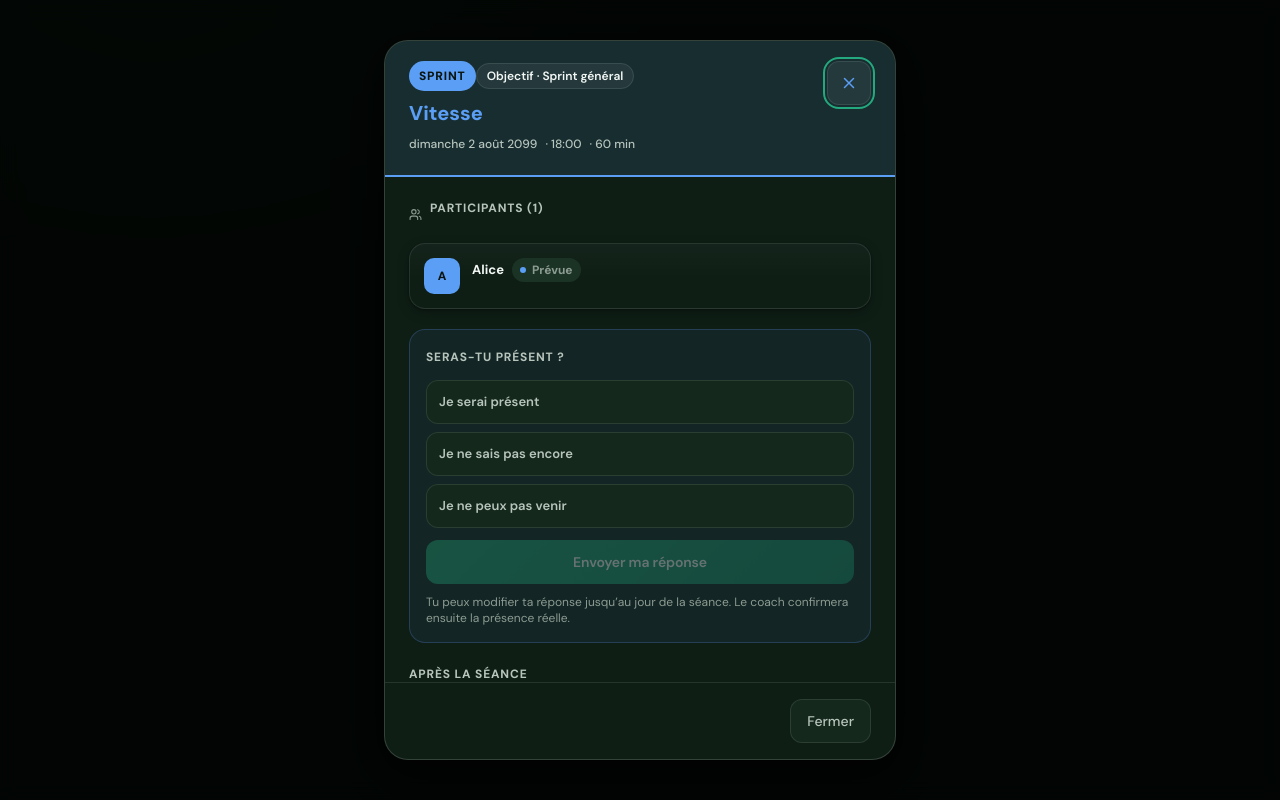
Test: SessionDetailModal › sépare la réponse avant séance du retour après séance et transmet le message
expect the text "Seras-tu présent ?" is shown: met, box [426,349,565,365]
Step 1. Click the button "Je ne peux pas venir" → (503, 506), box [426,484,854,528]
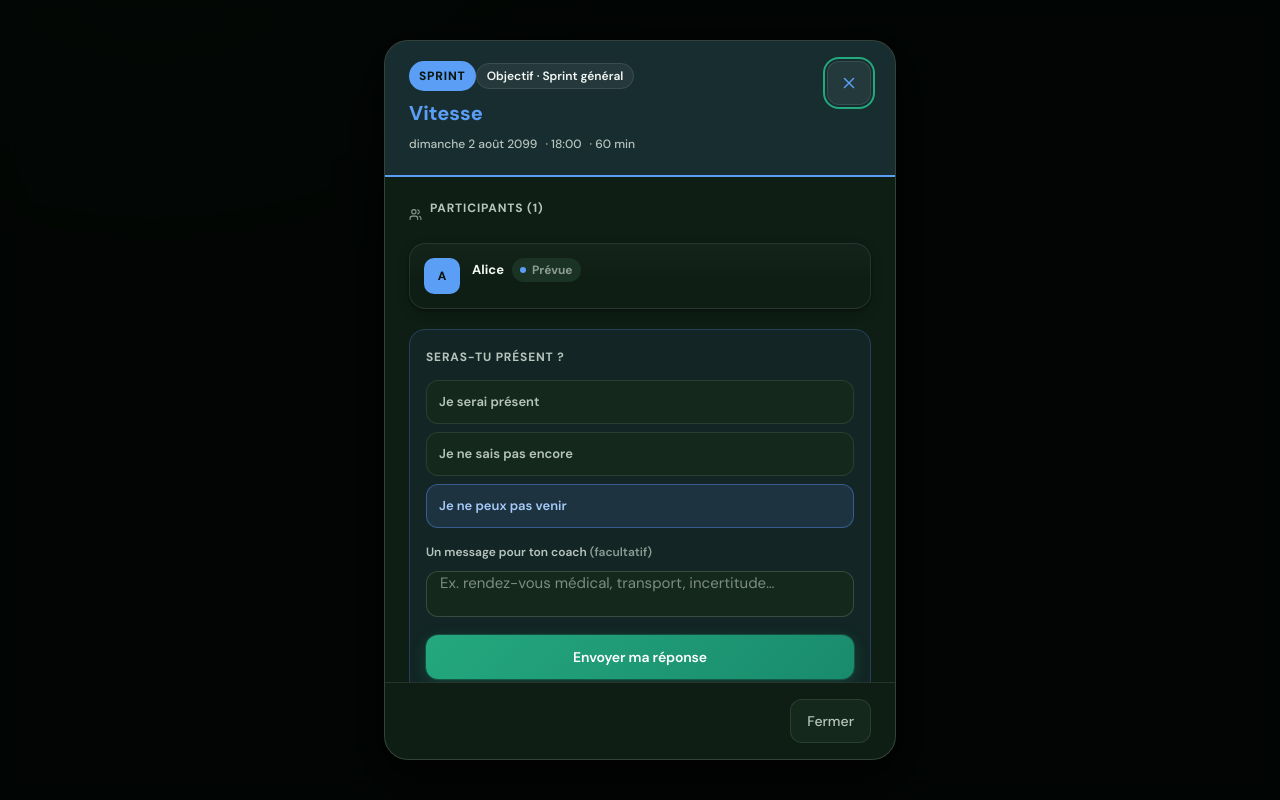
Step 2. Type "Je suis chez le kiné." into the text box labelled "Un message pour ton coach (facultatif)" → (640, 594), box [426,571,854,617]
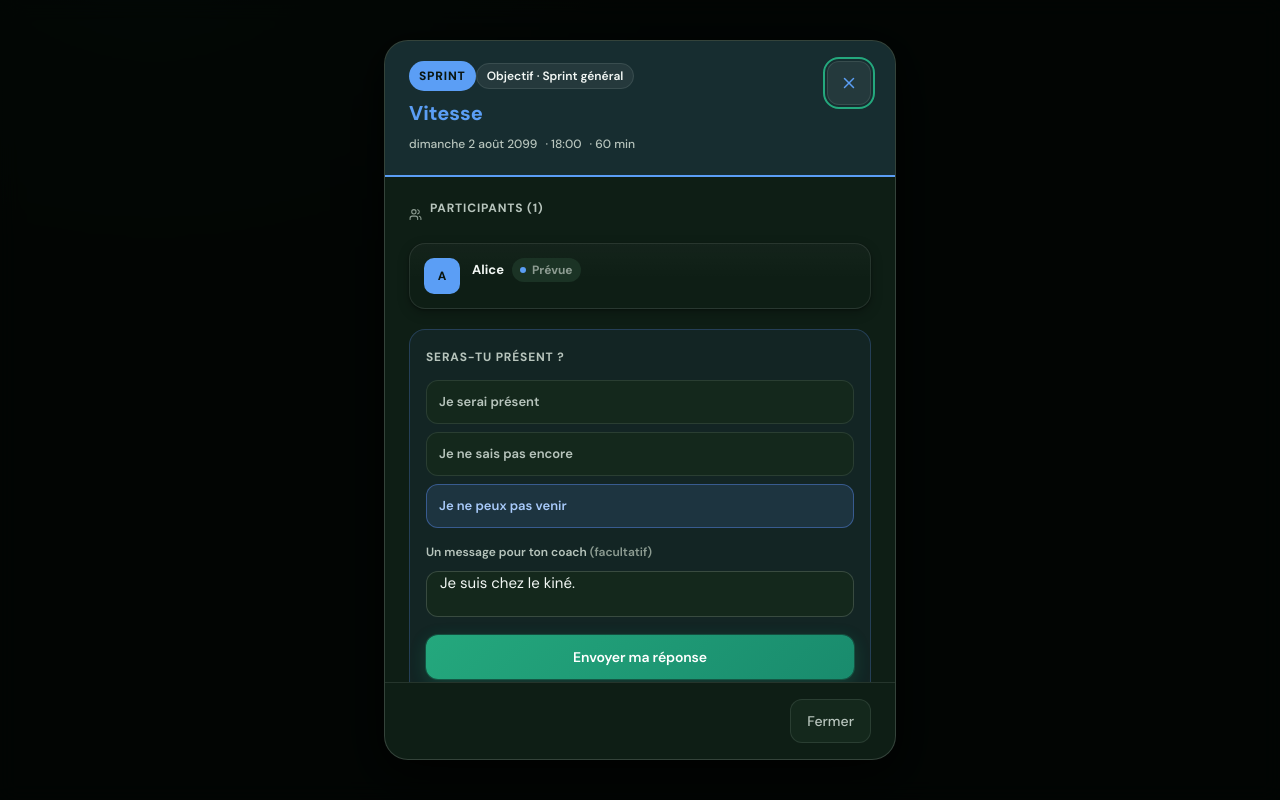
Step 3. Click the button "Envoyer ma réponse" → (640, 657), box [426,635,854,679]
(page scrolled)
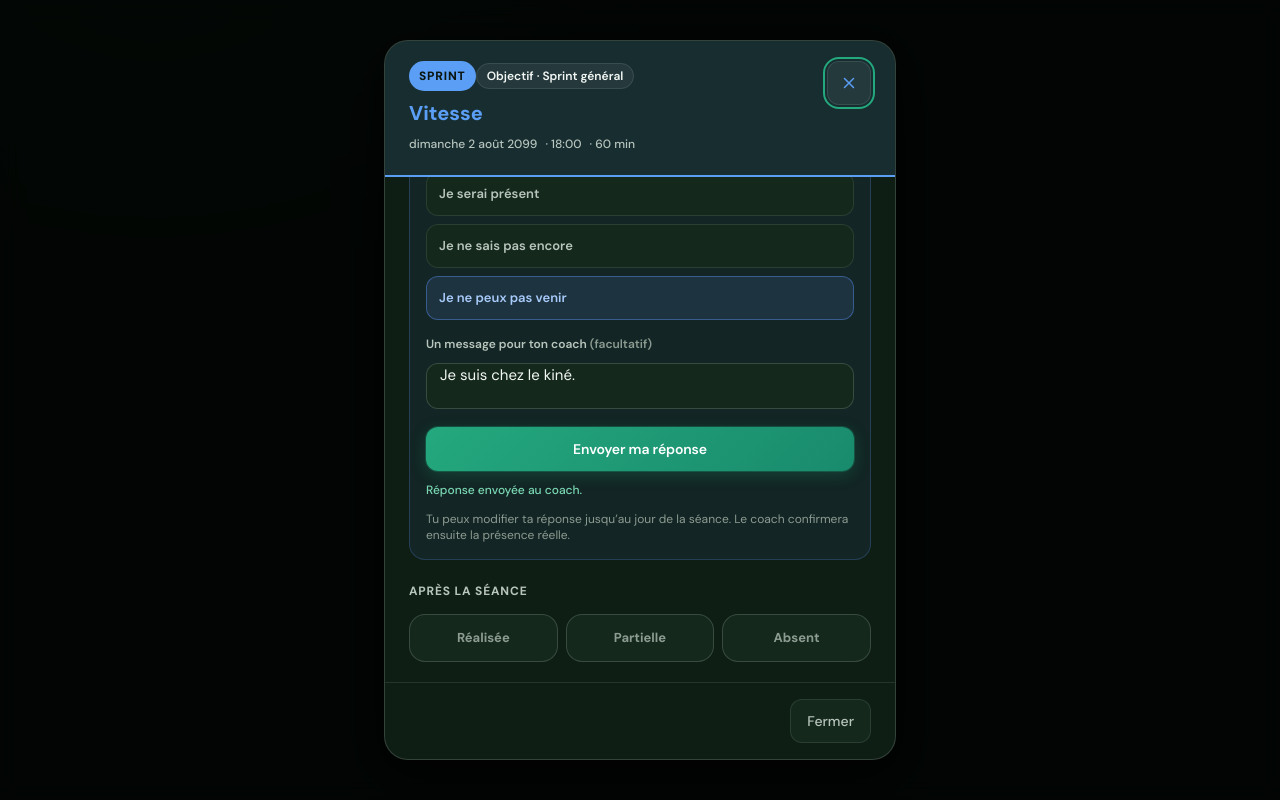
expect the text "Après la séance" is shown: met, box [409,583,528,599]
